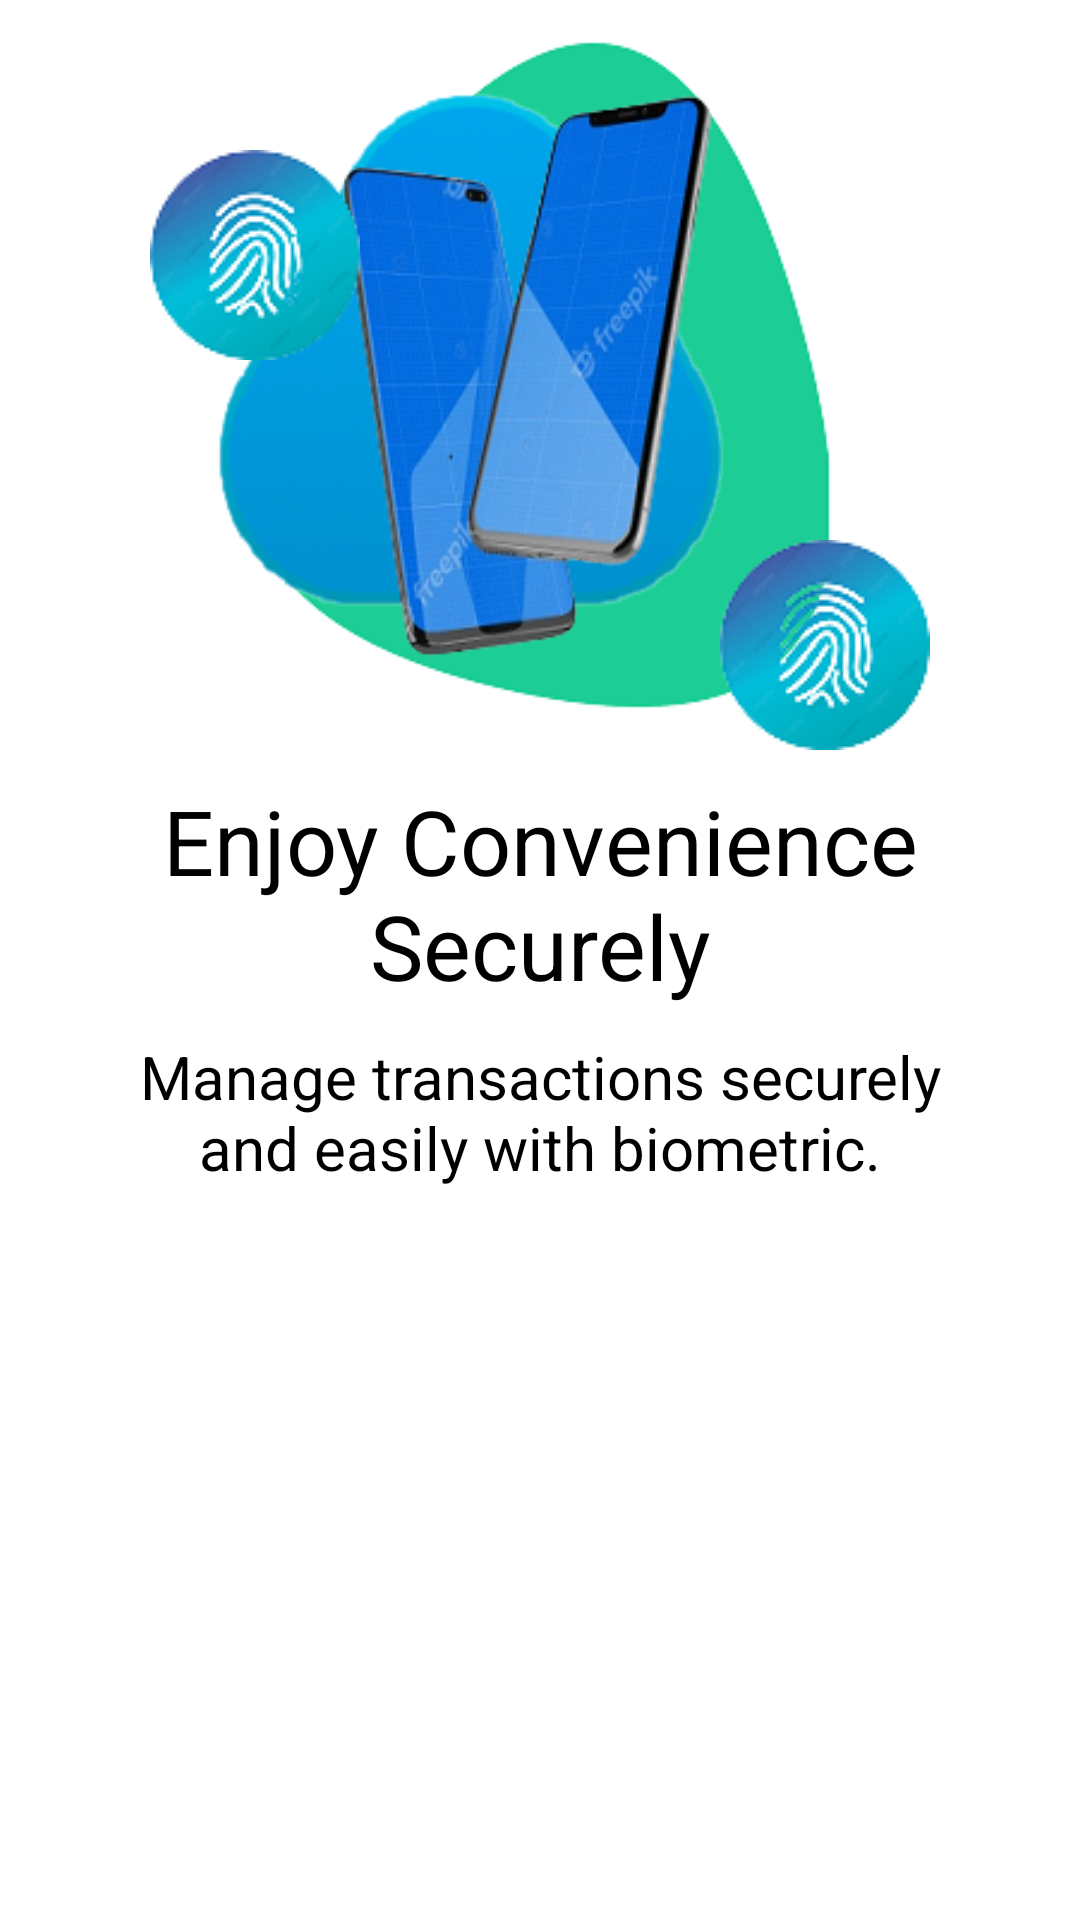

Icon click points for this 1080 x 1920 phone screenshot, format [x,y]:
touch: [255,255], [825,645]
